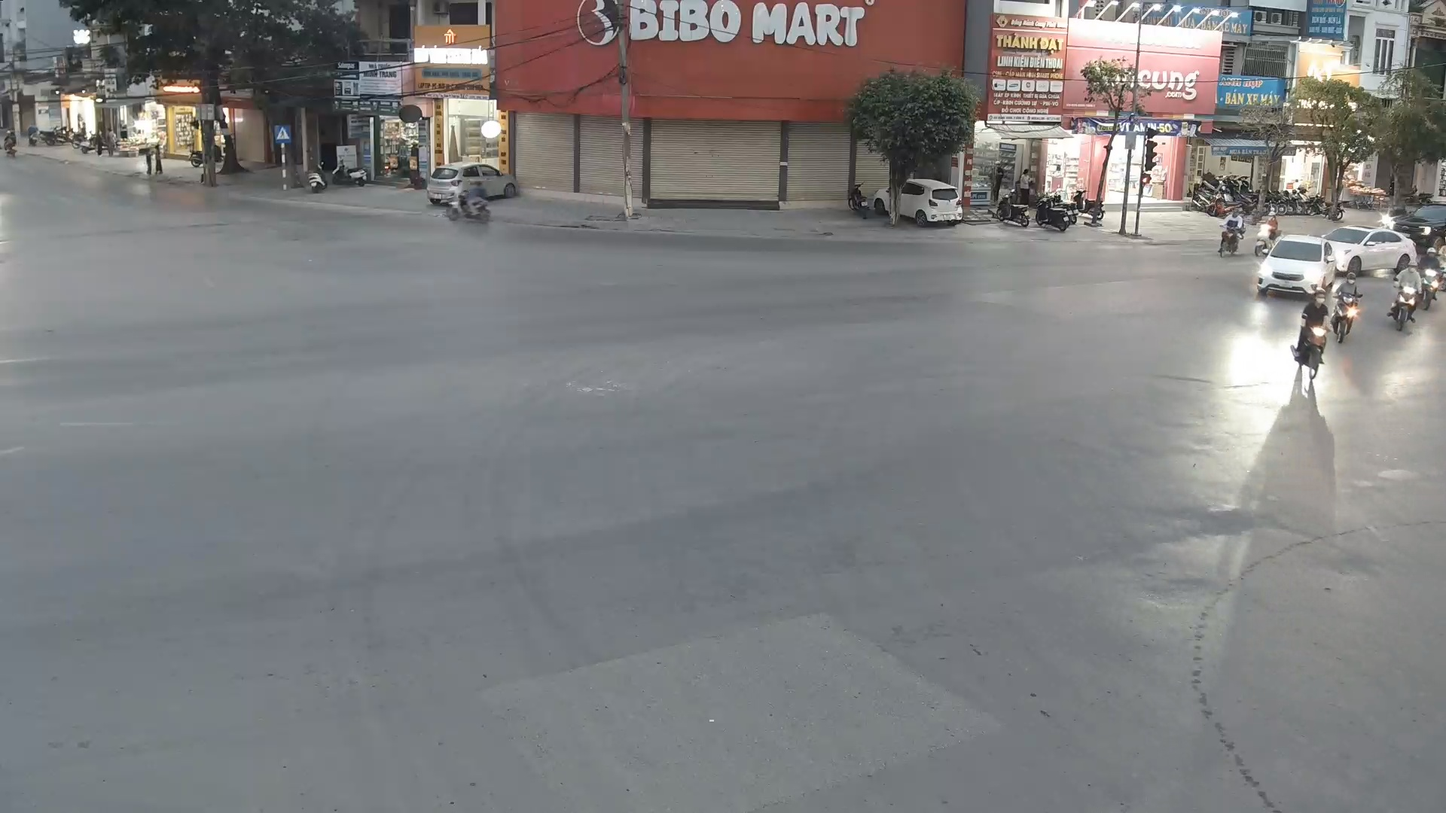car: (1323, 220, 1417, 281), (1254, 232, 1334, 302)
motorbike: (1288, 280, 1331, 399), (1329, 266, 1365, 344), (1387, 255, 1421, 334)
